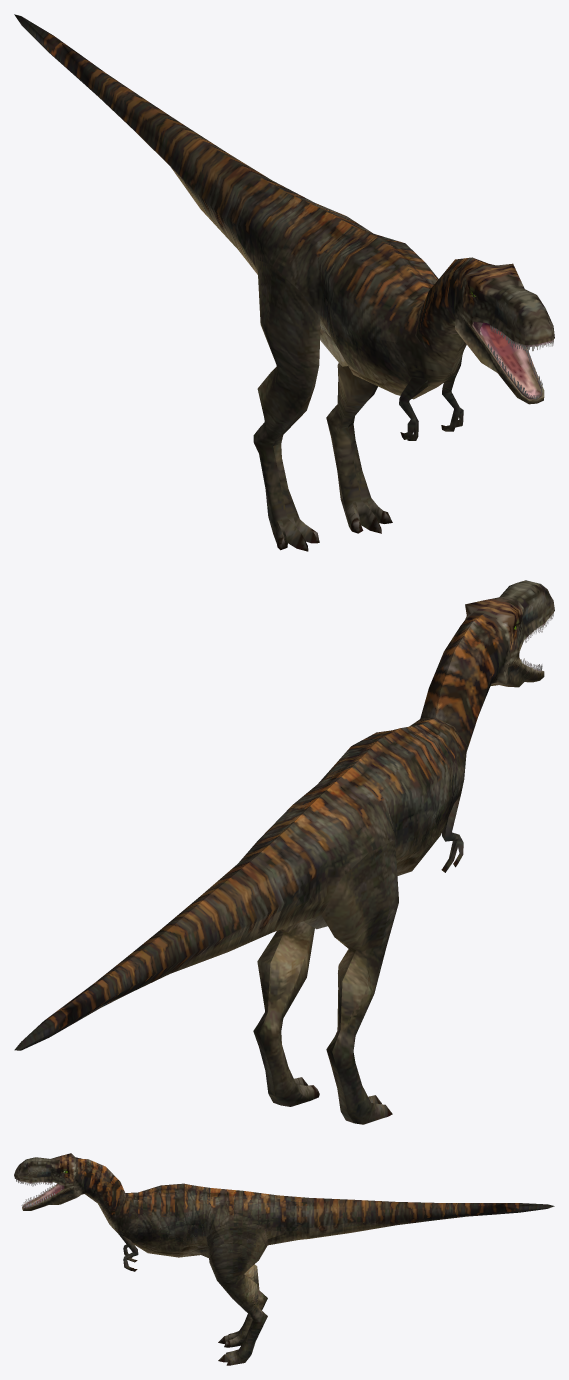
Rendered from albert.obj.
The picture shows the model from 3 angles, top to bottom: view 1: azimuth 30°, elevation 25°; view 2: azimuth 150°, elevation 25°; view 3: azimuth 270°, elevation 25°; orthographic projection. The views are drawn at different scales.
Parts seen in each view (by area): view 1: albert; view 2: albert; view 3: albert.
Boxes of the visible parts, x1=… form: albert: x1=14, y1=14, x2=554, y2=551; albert: x1=14, y1=580, x2=554, y2=1124; albert: x1=14, y1=1153, x2=554, y2=1365.
Size of the model in its own units: 1.2 by 3.65 by 9.25.
1 material, 1 textured.
